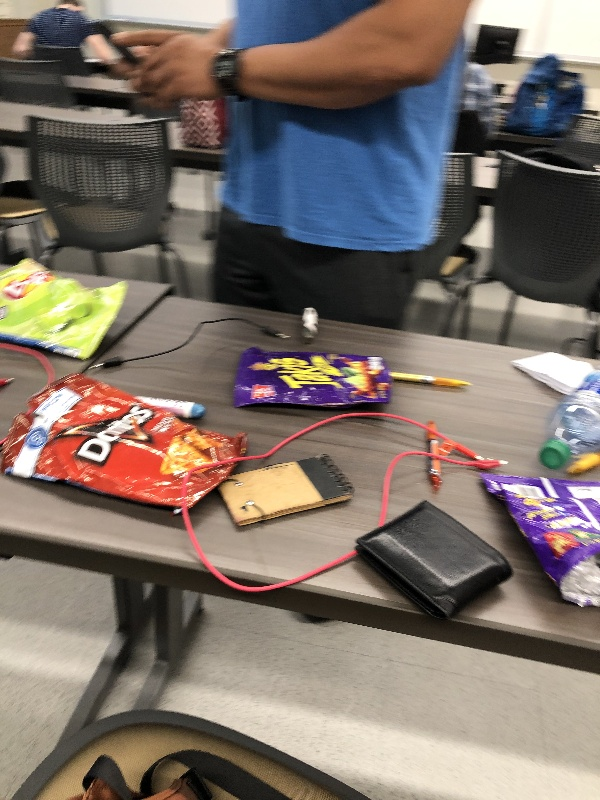bag: (1, 374, 253, 519), (477, 465, 600, 613), (1, 251, 134, 366), (227, 342, 396, 419)
bottle: (528, 360, 600, 471)
